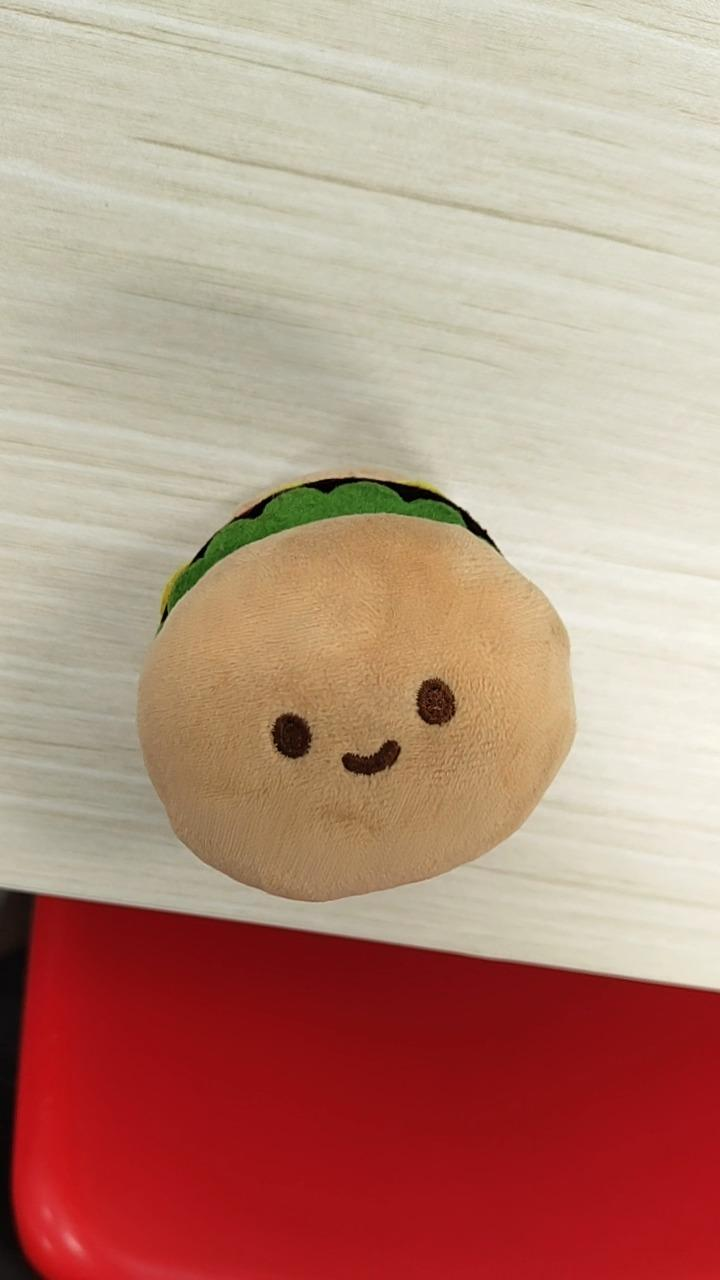hamburger: (134, 468, 577, 904)
